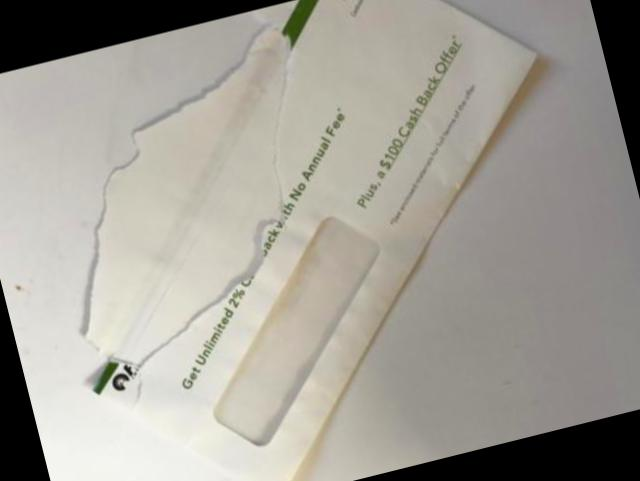cardboard paper: (85, 0, 532, 481)
